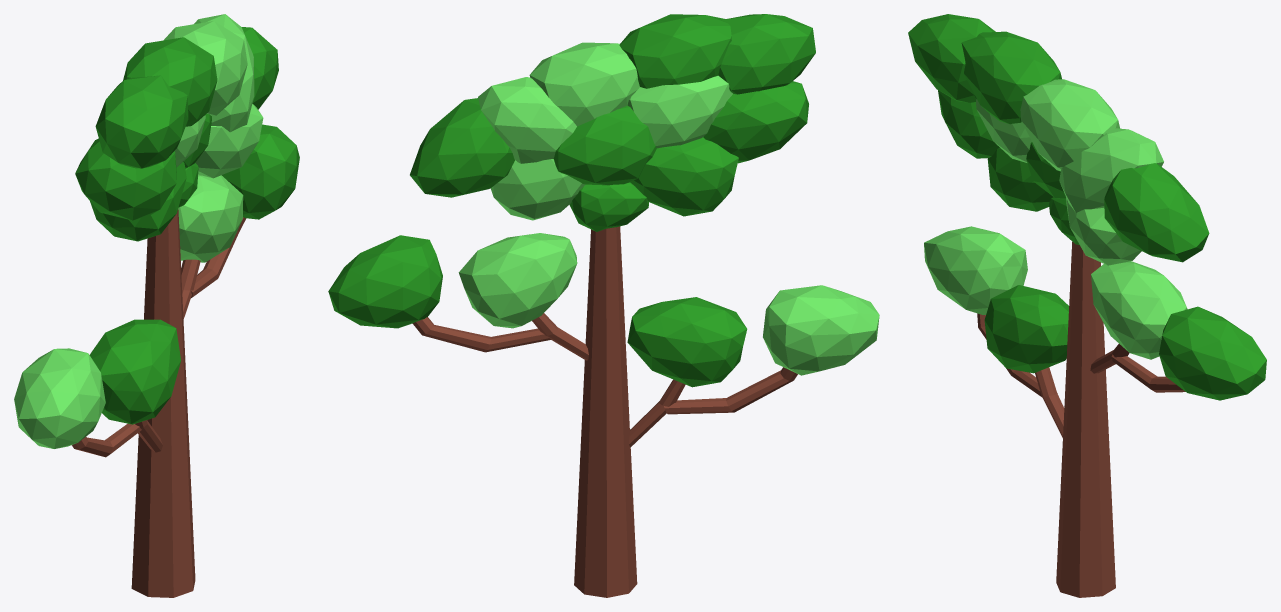
3 views of the same model, side by side, from view 1: azimuth 30°, elevation 25°; view 2: azimuth 150°, elevation 25°; view 3: azimuth 270°, elevation 25° (orthographic). The views are drawn at different scales.
Parts seen in each view (by area): view 1: Icosphere.028; view 2: Icosphere.028; view 3: Icosphere.028.
Boxes of the visible parts, box(x1,y1,x2,y2) form: Icosphere.028: box(14, 14, 299, 597); Icosphere.028: box(328, 14, 879, 597); Icosphere.028: box(908, 14, 1266, 597).
Bounding box in the file's own units: 8684 × 11318 × 6953.
